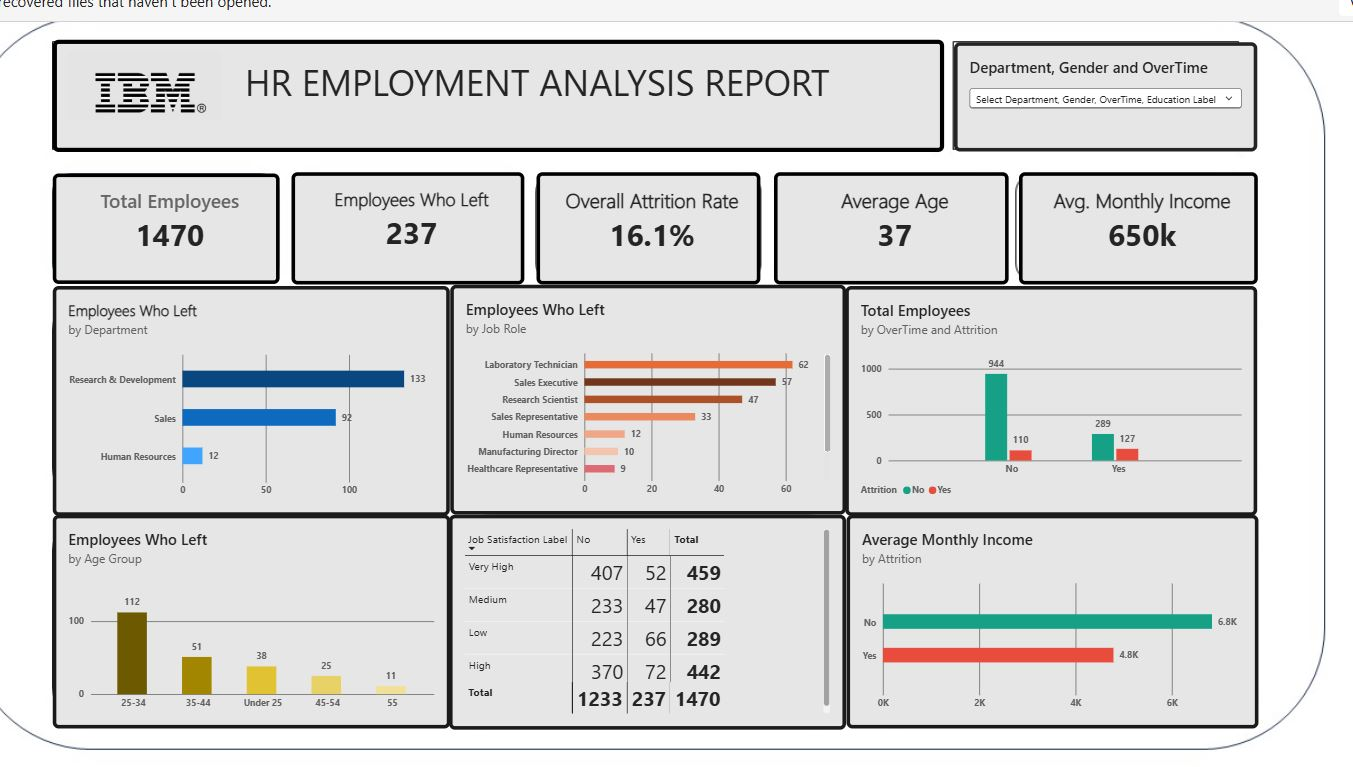

What the dashboard file says about the page in this screenshot:
{"tool":"powerbi","page":{"name":"Page 1","canvas":[1920,1080],"ordinal":0},"visuals":[{"type":"kpi","fields":{"Indicator":["Clean.Employees Who Left"]},"box":[486,256,312,150],"z":0},{"type":"kpi","title":"Overall Attrition Rate","fields":{"Indicator":["Clean.Attrition Rate"]},"box":[814,256,300,150],"z":1000},{"type":"kpi","fields":{"Indicator":["Clean.Average Age"]},"box":[1132,256,314,150],"z":2000},{"type":"kpi","title":"Avg. Monthly Income","fields":{"Indicator":["Clean.Avg. Monthly Inccome"]},"box":[1460,256,320,150],"z":3000},{"type":"clusteredBarChart","fields":{"Category":["Clean.Department"],"Y":["Clean.Employees Who Left"]},"box":[166,408,532,308],"z":4000},{"type":"clusteredBarChart","fields":{"Category":["Clean.Job Role"],"Y":["Clean.Employees Who Left"]},"box":[698.1,407.7,530.8,307.7],"z":5000},{"type":"clusteredColumnChart","fields":{"Category":["Clean.OverTime"],"Series":["Clean.Attrition"],"Y":["Clean.Total Employees"]},"box":[1228,408,552,308],"z":6000},{"type":"clusteredColumnChart","title":"Employees Who Left ","fields":{"Category":["Clean.Age_Group"],"Y":["Clean.Employees Who Left"]},"box":[165.4,715.4,532.7,286.5],"z":7000},{"type":"pivotTable","fields":{"Columns":["Clean.Attrition"],"Rows":["Clean.Job Satisfaction Label"],"Values":["Clean.Total Employees"]},"box":[697.6,714.6,531.7,287.8],"z":8000},{"type":"clusteredBarChart","title":"Average Monthly Income","fields":{"Category":["Clean.Attrition"],"Y":["Clean.Avg. Monthly Inccome"]},"box":[1228.8,715.4,551.9,286.5],"z":9000},{"type":"listSlicer","fields":{"Values":["Clean.Department","Clean.Gender","Clean.OverTime","Clean.Education Label"]},"box":[1374,82,406,146],"z":10000},{"type":"kpi","fields":{"Indicator":["Clean.Total Employees"]},"box":[166,258,304,148],"z":11000},{"type":"textbox","box":[166,78,1194,150],"z":12000},{"type":"image","box":[186,80,206,120],"z":13000}]}

Visuals, with their boxes in screenshot pixels (x1, y1, x2, y2):
kpi - Clean.Employees Who Left: left=289, top=170, right=522, bottom=282
"Overall Attrition Rate" kpi: left=534, top=170, right=758, bottom=282
kpi - Clean.Average Age: left=772, top=170, right=1006, bottom=282
"Avg. Monthly Income" kpi: left=1017, top=170, right=1256, bottom=282
clusteredBarChart - Clean.Department x Clean.Employees Who Left: left=50, top=284, right=447, bottom=514
clusteredBarChart - Clean.Job Role x Clean.Employees Who Left: left=447, top=283, right=844, bottom=513
clusteredColumnChart - Clean.OverTime x Clean.Attrition: left=843, top=284, right=1256, bottom=514
"Employees Who Left " clusteredColumnChart: left=50, top=513, right=447, bottom=727
pivotTable - Clean.Attrition x Clean.Job Satisfaction Label: left=447, top=513, right=844, bottom=728
"Average Monthly Income" clusteredBarChart: left=844, top=513, right=1256, bottom=727
listSlicer - Clean.Department x Clean.Gender: left=952, top=40, right=1256, bottom=149
kpi - Clean.Total Employees: left=50, top=172, right=277, bottom=282
textbox: left=50, top=37, right=942, bottom=149
image: left=65, top=39, right=219, bottom=128
